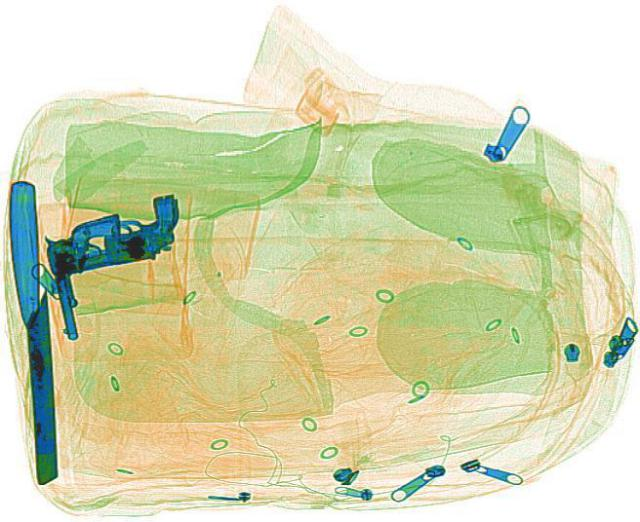Gun: (38, 211, 142, 339), (42, 190, 192, 274)
Knife: (3, 179, 65, 483)
